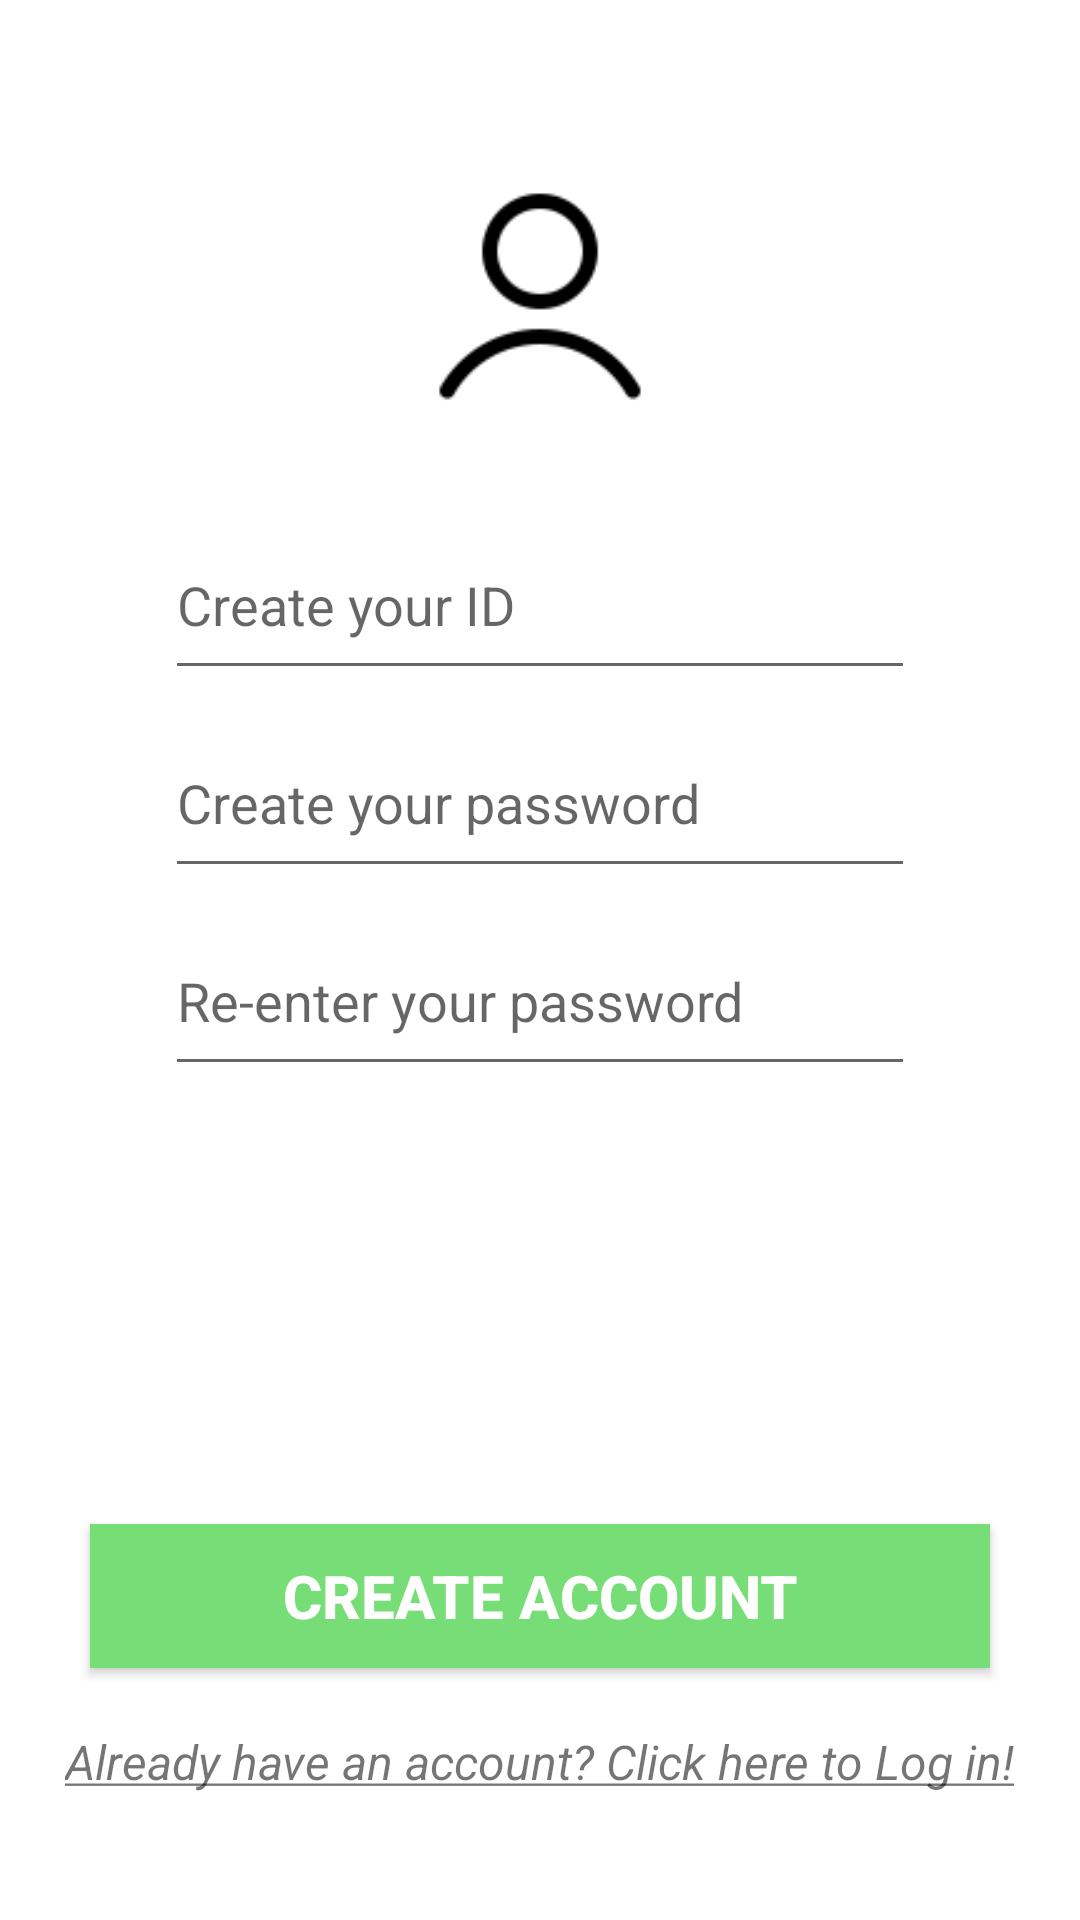

Locate icon controls on the screen. Image size 1080×1920, boxes as bbox=(x1, y1, x2, y2).
user: bbox=(439, 193, 641, 400)
